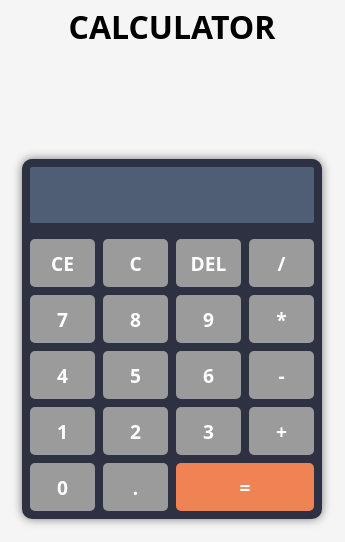
Calculator › should input show value after user clicking a number
The width and height of the screenshot is (345, 542).
Click the text "1": coordinates (62, 431) [30, 407, 95, 455]
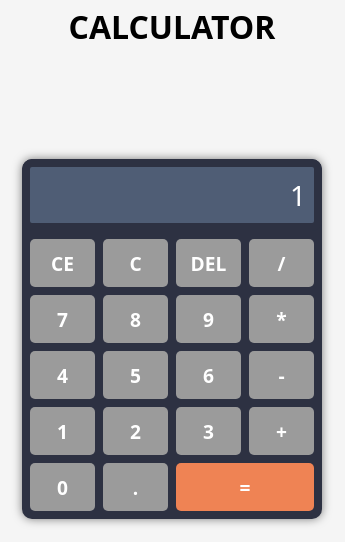
Expected: the field holds "1", [22, 159, 322, 231]
